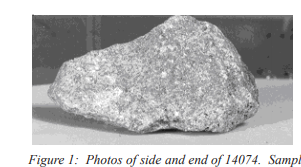Basalt: (52, 16, 268, 136)
